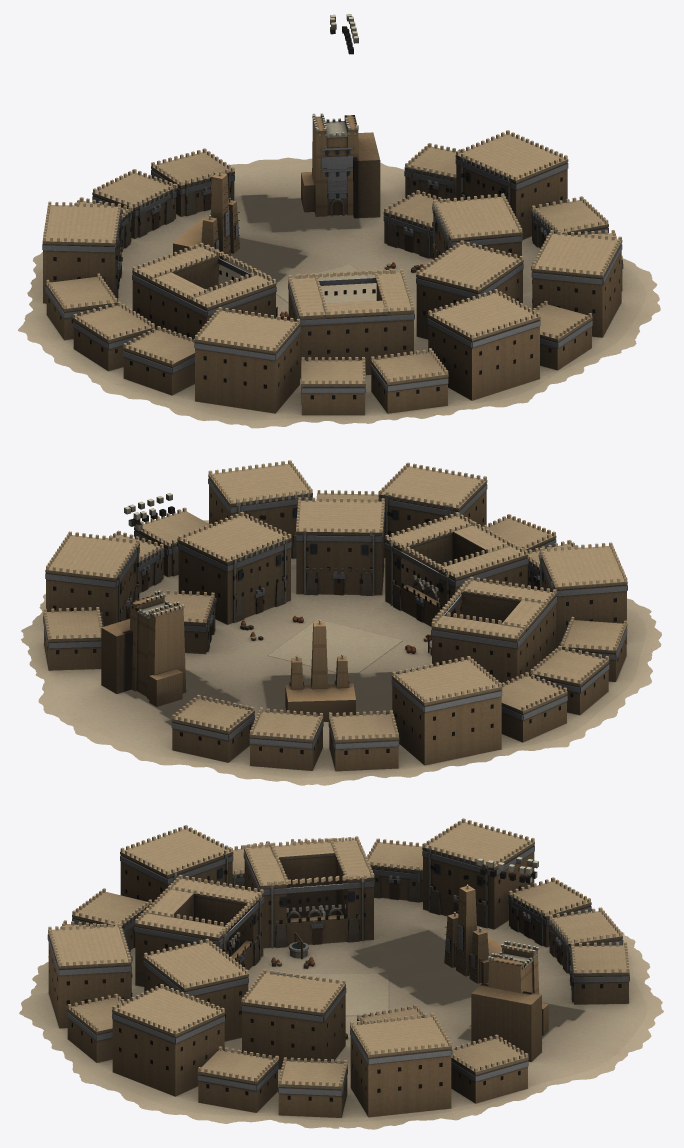
Rendered from kingdoms-town-big-b-maghreb.glb.
3 views of the same model, one above another, from view 1: azimuth 30°, elevation 25°; view 2: azimuth 150°, elevation 25°; view 3: azimuth 270°, elevation 25° (orthographic).
Visible parts, largest first — view 1: LOD0; view 2: LOD0; view 3: LOD0.
Boxes of the visible parts, left/top/right/bottom form: LOD0: left=18, top=14, right=660, bottom=428; LOD0: left=21, top=460, right=661, bottom=785; LOD0: left=19, top=818, right=663, bottom=1129.
Size of what is drawn, in the model's own units: 7.92 by 2.47 by 7.98.
3 materials, 3 textured.
